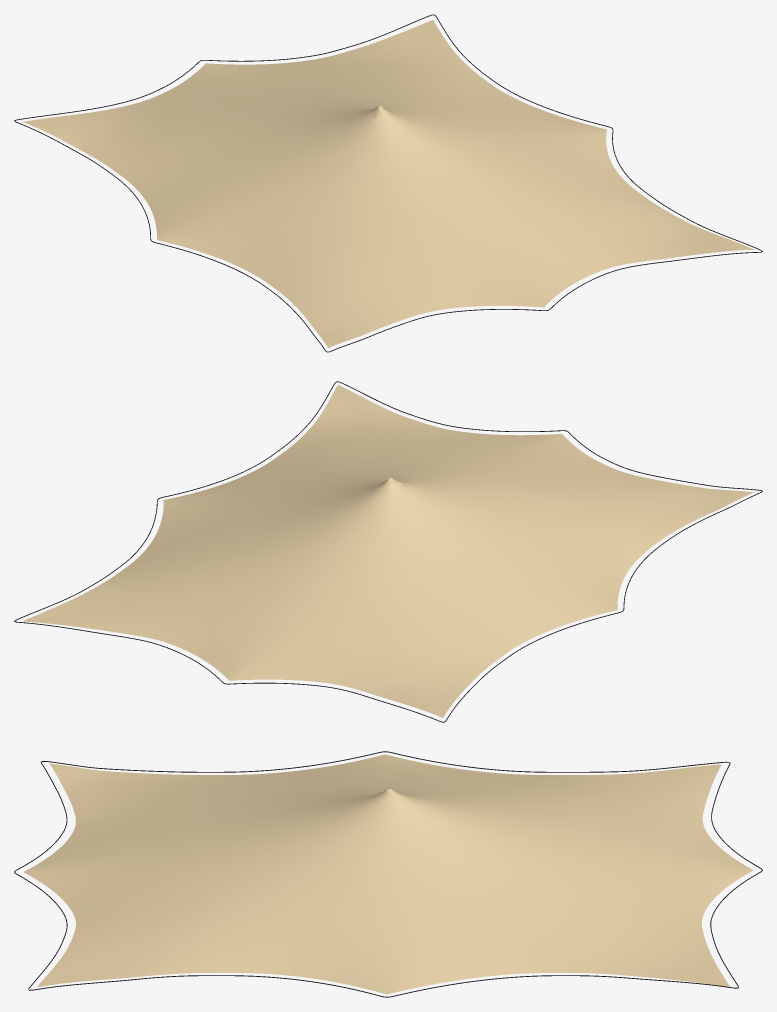
File: 7_5x10-tent-rope.glb
3 renders of one model, top to bottom at view 1: azimuth 30°, elevation 25°; view 2: azimuth 150°, elevation 25°; view 3: azimuth 270°, elevation 25°, orthographic. The views are drawn at different scales.
Visible parts, largest first — view 1: FA 7.5x10 Zelt, FA 7.5x10 Seil; view 2: FA 7.5x10 Zelt, FA 7.5x10 Seil; view 3: FA 7.5x10 Zelt, FA 7.5x10 Seil.
Part boxes in pixels (left/top/right/bottom): FA 7.5x10 Zelt: left=22, top=20, right=754, bottom=348; FA 7.5x10 Seil: left=14, top=14, right=762, bottom=352; FA 7.5x10 Zelt: left=22, top=385, right=754, bottom=717; FA 7.5x10 Seil: left=14, top=381, right=762, bottom=722; FA 7.5x10 Zelt: left=23, top=754, right=753, bottom=994; FA 7.5x10 Seil: left=14, top=751, right=762, bottom=997.
Bounding box in the file's own units: 9.33 × 1.53 × 12.
